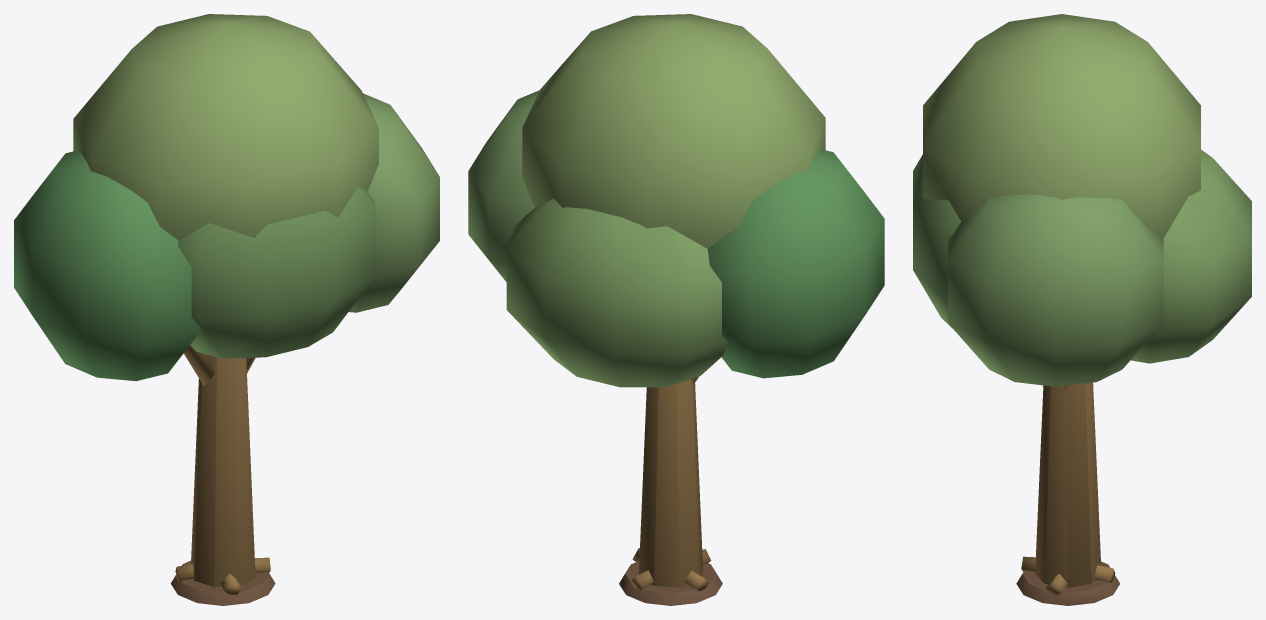
Rendered from tree_stage2_low.glb.
3 renders of one model, left to right at view 1: azimuth 30°, elevation 25°; view 2: azimuth 150°, elevation 25°; view 3: azimuth 270°, elevation 25°, orthographic.
Size of the model in its own units: 1.44 by 2 by 1.1.
